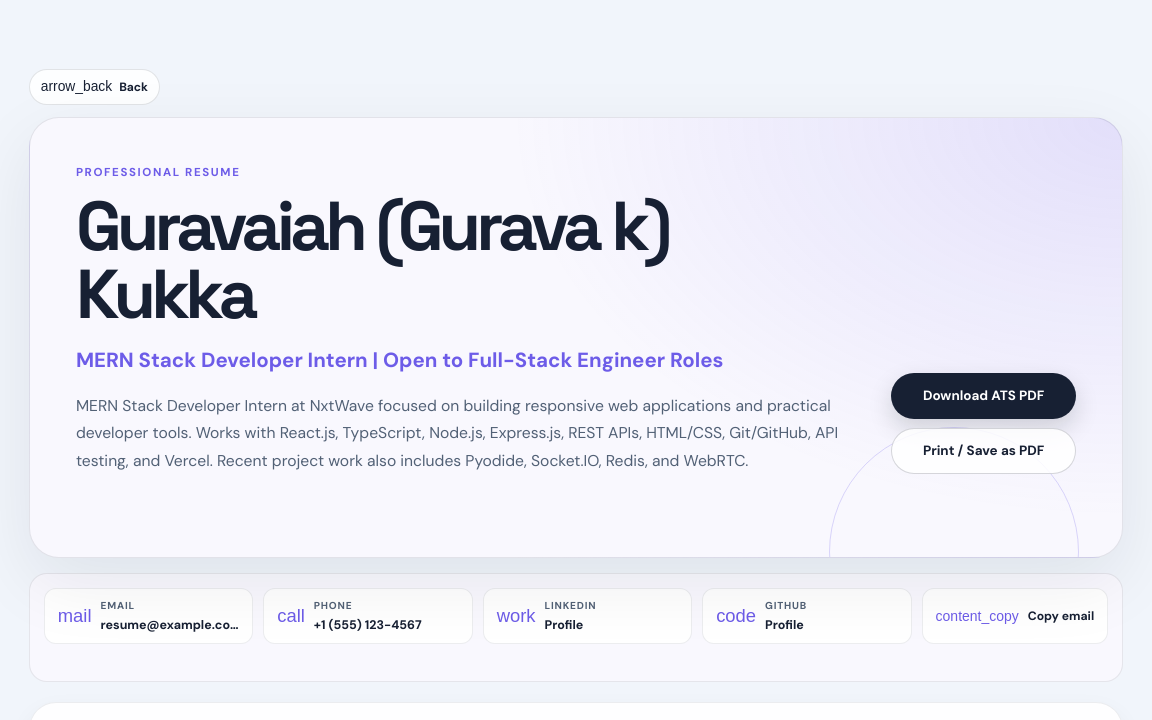
Test: ResumePage › copies the public email address and announces success
Click the button "Copy email": (1015,616) [922, 588, 1108, 644]
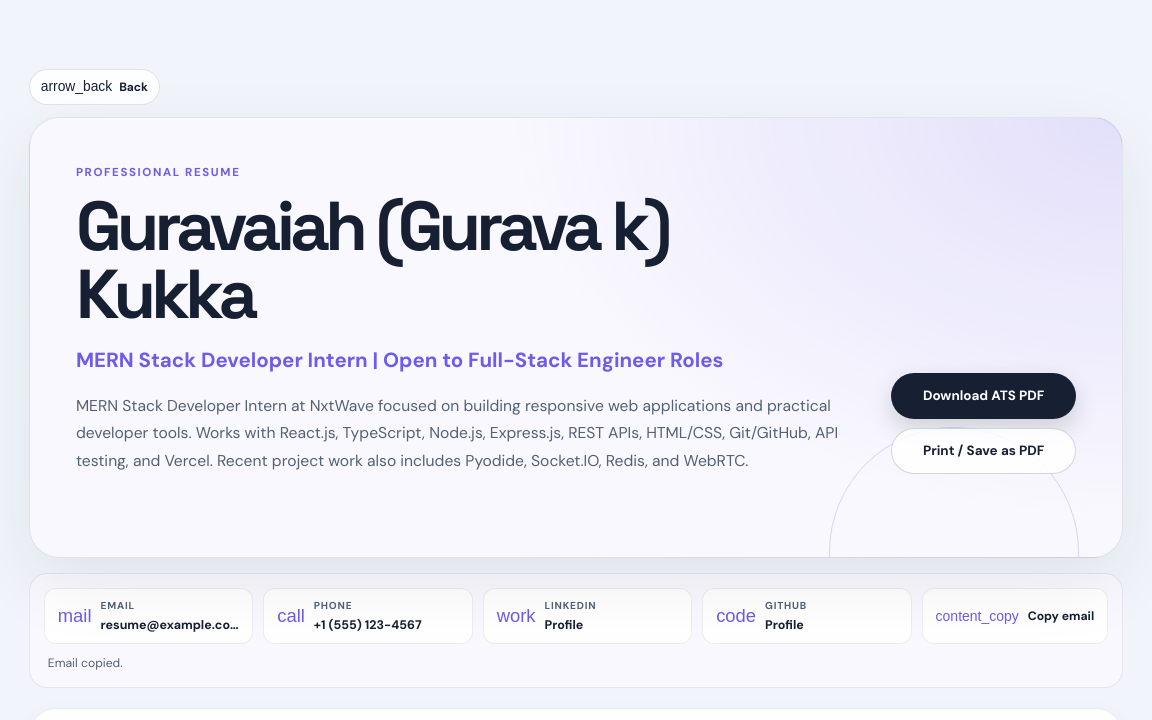
expect the text "Email copied." is shown: met, box [48, 655, 123, 671]
